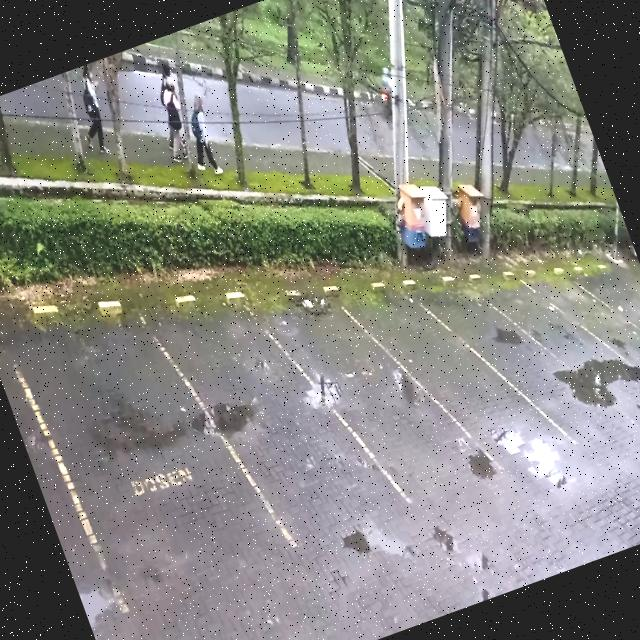empty: (0, 256, 266, 625), (160, 254, 370, 560), (286, 256, 452, 514), (374, 259, 518, 481), (458, 260, 581, 460)
